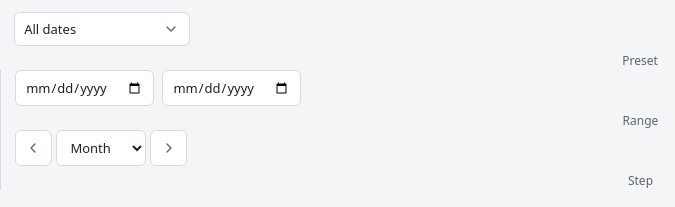
Test case: DateRangeFilterComponent › still offers All dates and shows an error when the presets failed to load
This screenshot has width=675, height=207.
What coordinates should you click on to do the following:
click the button with class "date-range-filter__trigger"
I would click on:
 (102, 29)
Its box is [14,12,190,46].
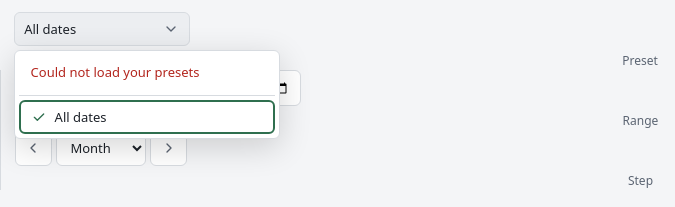
Check: the text "Could not load your presets" is shown, box [31,63,200,81]
